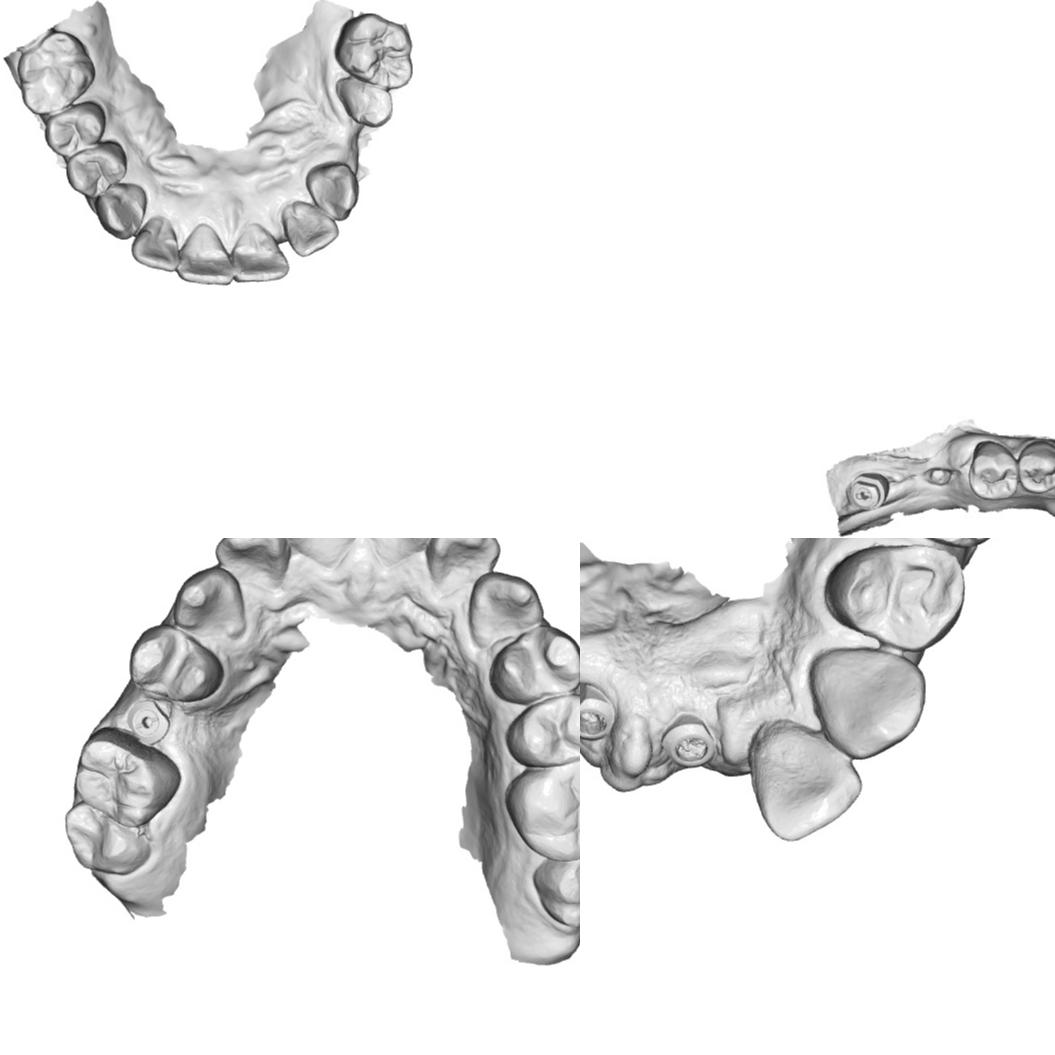canine: (809, 647, 927, 760), (469, 568, 544, 646), (171, 565, 245, 640), (305, 160, 360, 222), (92, 180, 148, 240)
implant: (657, 707, 720, 766), (580, 683, 617, 743)
implant_minus: (126, 698, 172, 745), (846, 471, 889, 511)
incisor: (749, 721, 865, 844), (432, 538, 502, 596), (213, 538, 289, 590), (176, 222, 235, 286), (232, 222, 290, 284), (281, 200, 341, 256), (130, 214, 180, 272), (359, 538, 441, 565), (278, 538, 359, 565)
molar: (72, 729, 182, 826), (16, 29, 96, 117), (511, 756, 580, 857), (62, 800, 150, 876), (334, 10, 414, 89), (534, 840, 580, 931)
premolar: (823, 544, 968, 652), (125, 625, 223, 704), (491, 625, 580, 704), (504, 694, 580, 766), (64, 139, 128, 200), (43, 98, 107, 158), (334, 74, 394, 128), (966, 440, 1020, 500), (1016, 440, 1055, 493)
